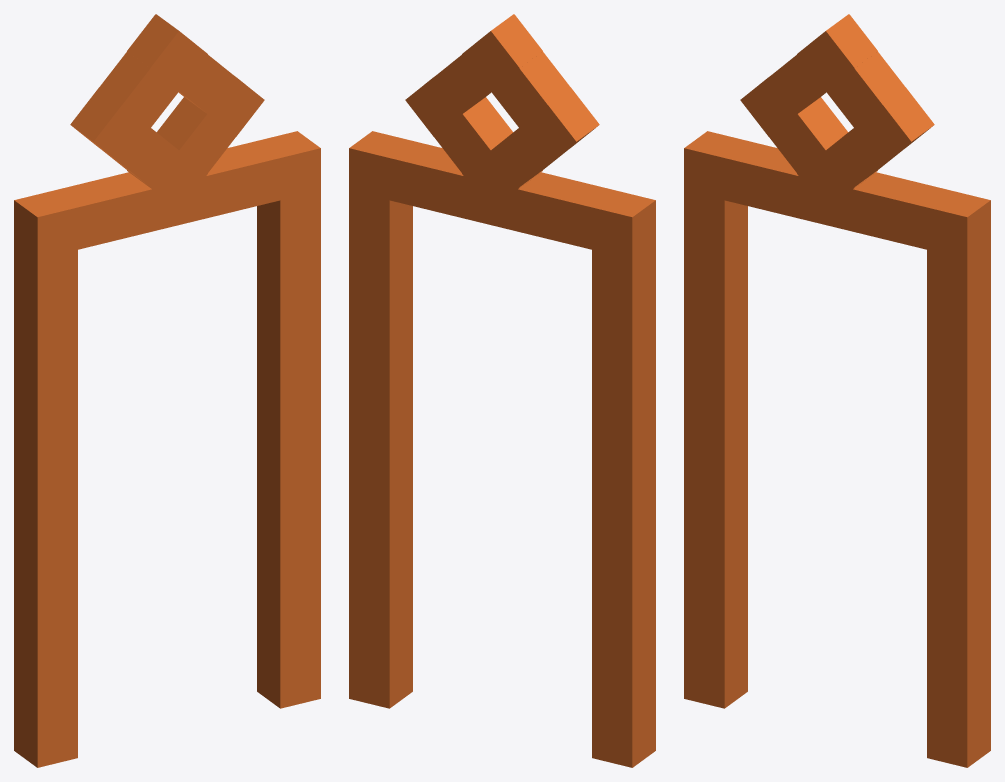
Rendered from Decoy.fbx.
3 renders of one model, left to right at view 1: azimuth 30°, elevation 25°; view 2: azimuth 150°, elevation 25°; view 3: azimuth 330°, elevation 25°, orthographic.
Parts seen in each view (by area): view 1: Cube.002; view 2: Cube.002; view 3: Cube.002.
Boxes of the visible parts, bbox=[...] form: Cube.002: bbox=[14, 14, 320, 767]; Cube.002: bbox=[349, 14, 655, 767]; Cube.002: bbox=[684, 14, 990, 767].
Bounding box in the file's own units: 70 × 166 × 10.
